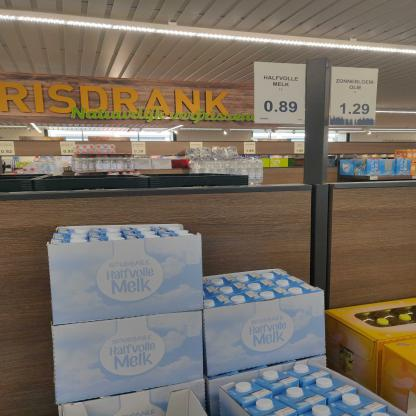prtg: (256, 62, 308, 125), (331, 68, 379, 127)
